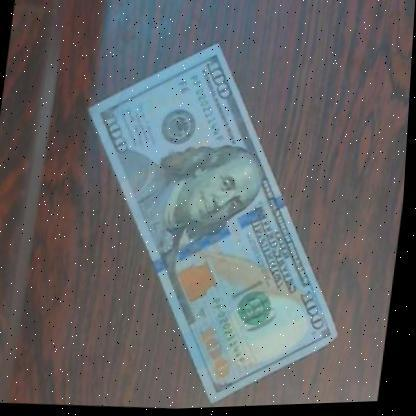one_hundred-front: (61, 33, 377, 414)
